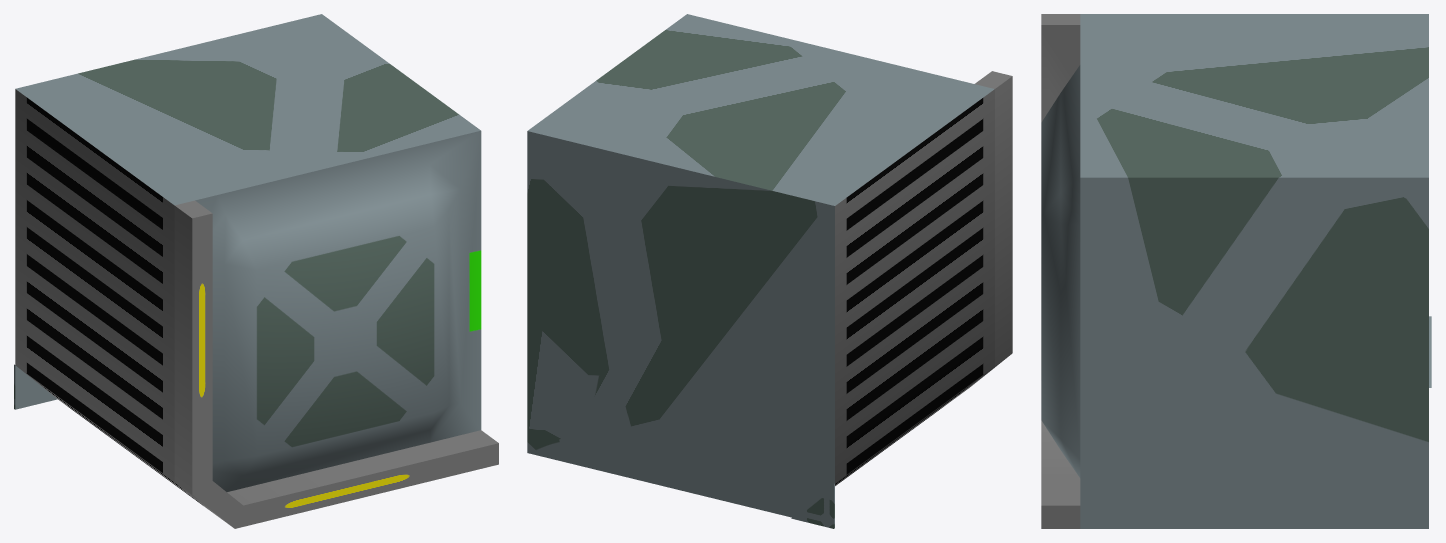
File: RigthDown.fbx
The picture shows the model from 3 angles, left to right: view 1: azimuth 30°, elevation 25°; view 2: azimuth 150°, elevation 25°; view 3: azimuth 270°, elevation 25°; orthographic projection. The views are drawn at different scales.
Visible parts, largest first — view 1: geo1; view 2: geo1; view 3: geo1.
Boxes of the visible parts, x1,y1,x2,y2 form: geo1: (14,14,498,528); geo1: (527,14,1012,528); geo1: (1041,14,1431,528).
Size of the model in its own units: 3 by 3 by 3.02.
